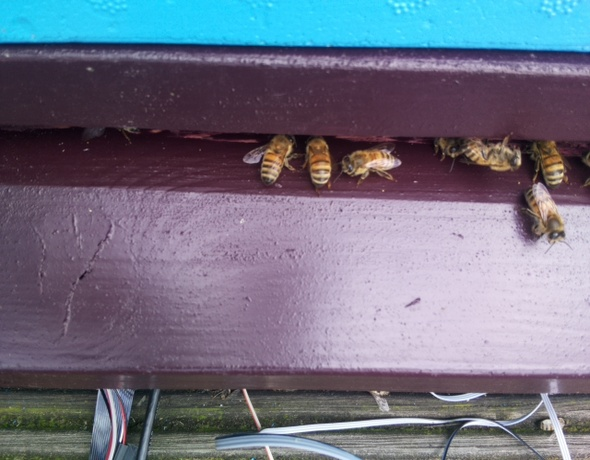no_pollen: (521, 182, 571, 250), (461, 133, 525, 174), (339, 143, 404, 180), (257, 133, 297, 190), (529, 135, 569, 189), (303, 135, 333, 191), (432, 135, 462, 160)
